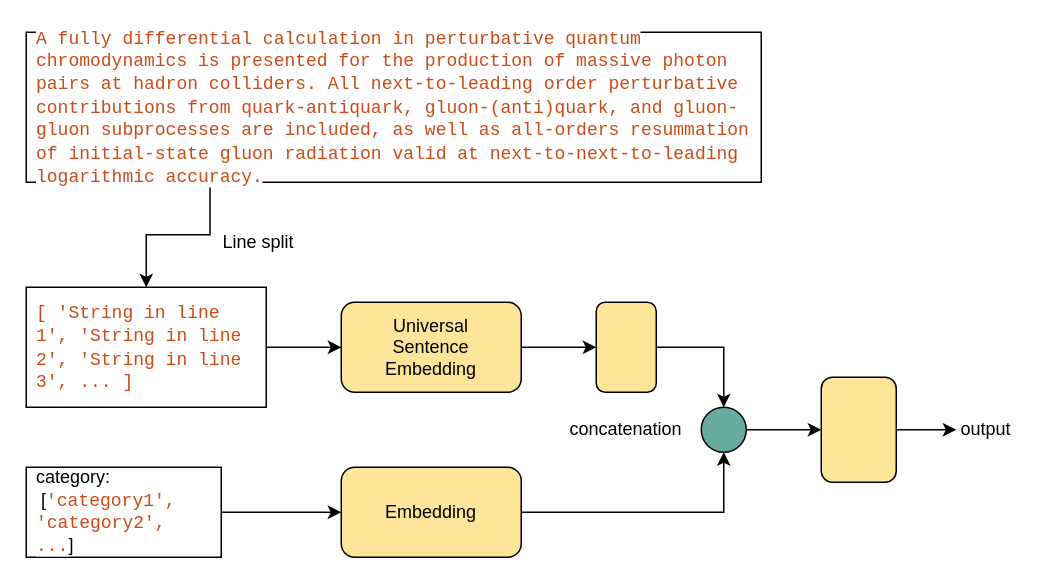
The diagram is 1043 pixels wide and 584 high, and some of its shapes have lost their labels. Each missing label, with the box of its shape:
Dense: (820, 376, 896, 482)
GRU: (595, 301, 656, 392)
